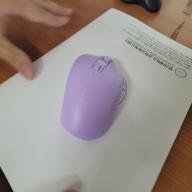mouse: (60, 51, 122, 141)
